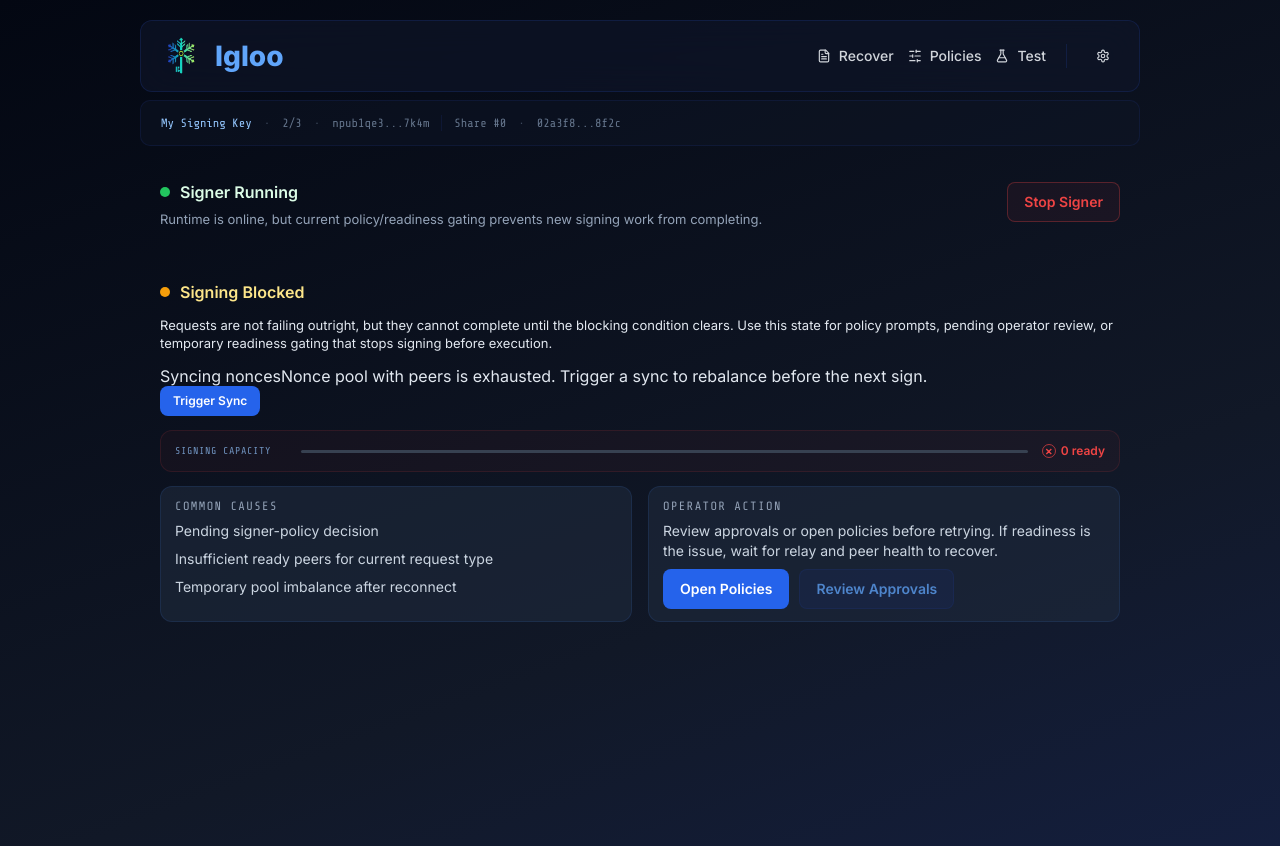
it: Settings Sidebar › removing a relay removes it from the list
This screenshot has width=1280, height=846.
Click the button named "Settings".
click(1103, 56)  # box [1087, 40, 1119, 72]
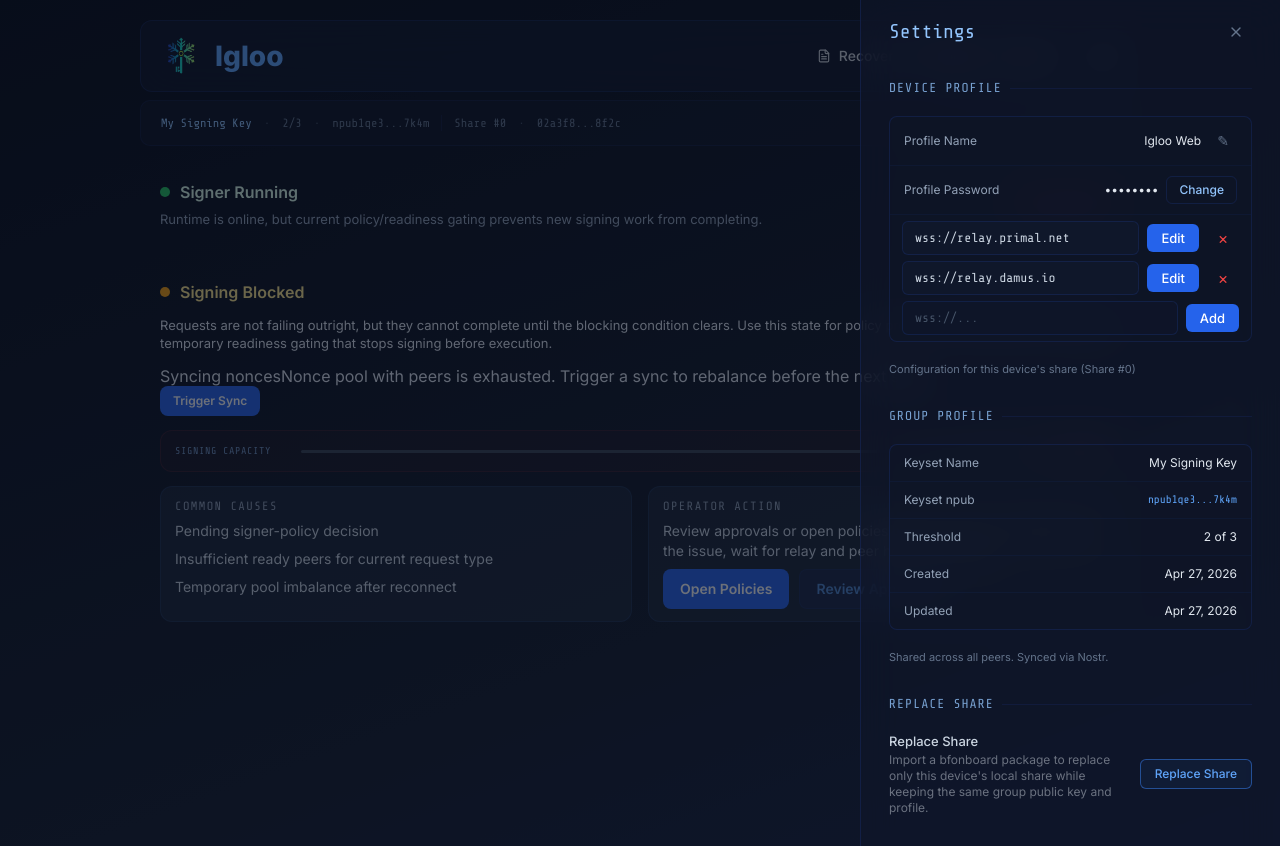
Result: the text "wss://relay.primal.net" is shown at [902, 221, 1139, 255]
Click the button named "Remove wss://relay.primal.net".
click(1223, 238)  # box [1207, 222, 1239, 254]
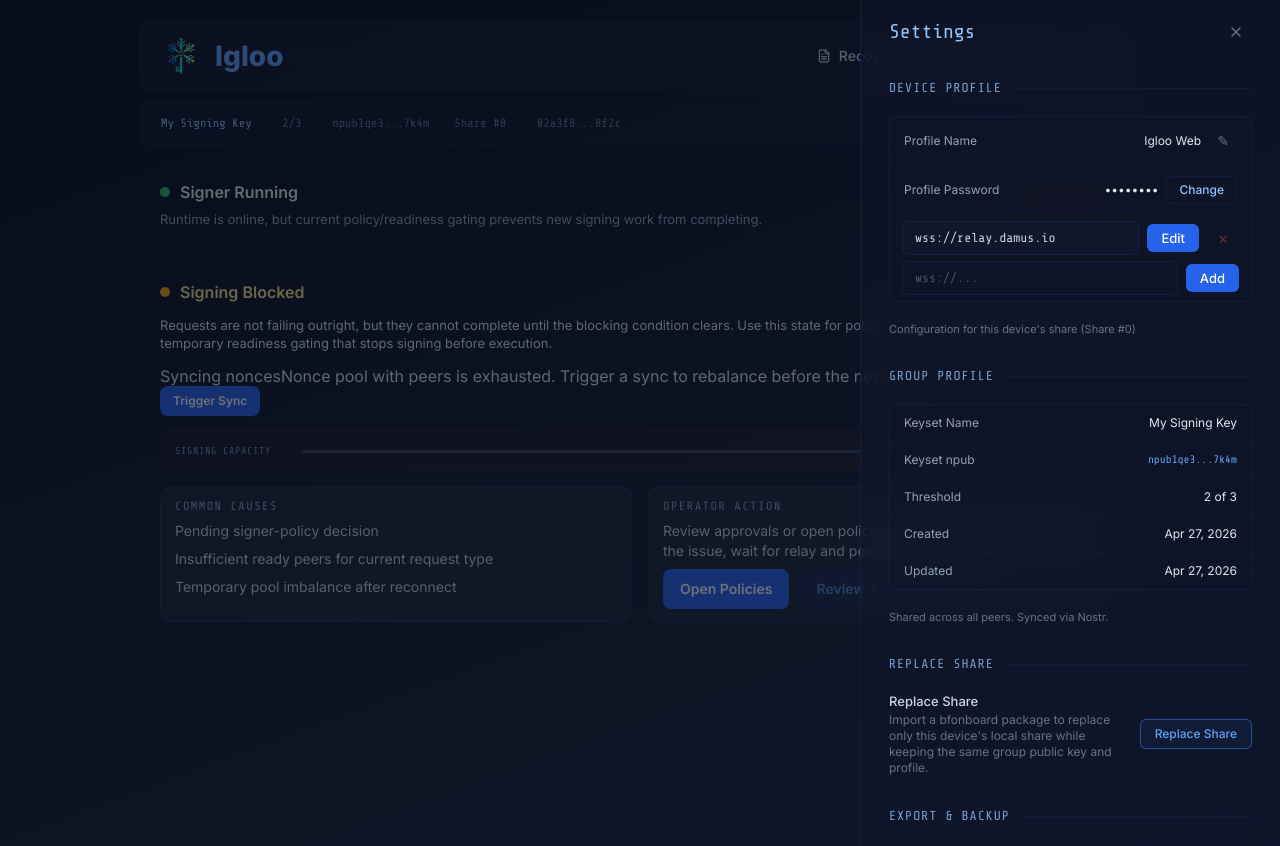
Result: the text "wss://relay.damus.io" is shown at [902, 221, 1139, 255]
Result: the text "wss://relay.primal.net" is gone
